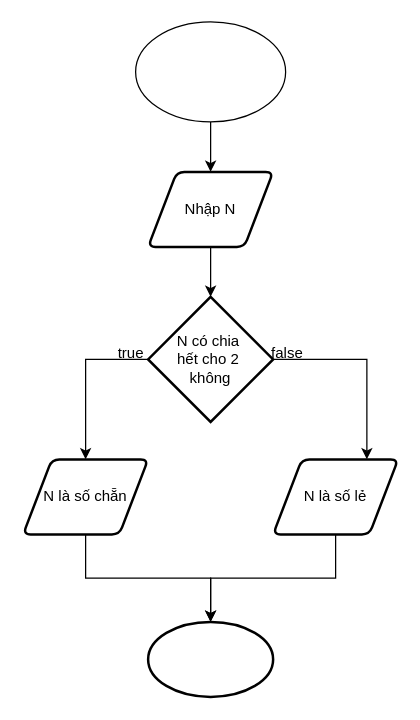
Image size: 420x720. Some labels were removed from this diagram. The shapes that lost their labels are listed below. From the top down, each one's box as (x1, y1, x2, y2) in pixels, then its label:
(134, 21, 286, 122): START
(146, 620, 274, 698): END
